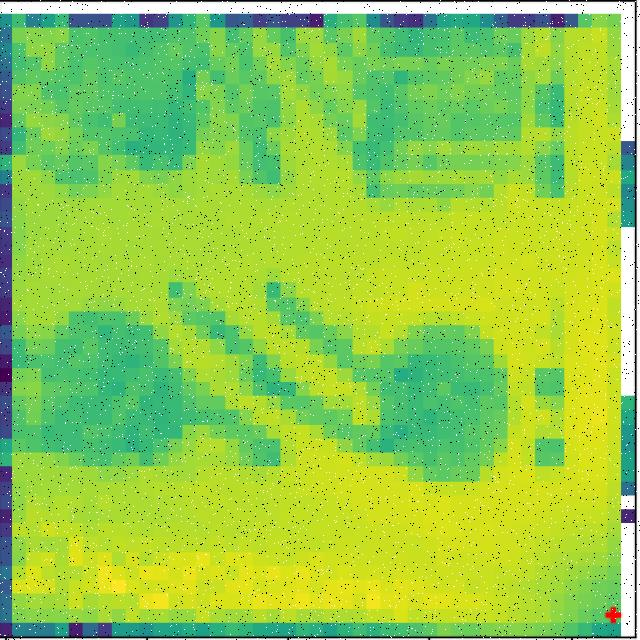Concrete: (365, 301, 508, 485)
Glass: (46, 286, 200, 508)
Metal: (335, 36, 522, 206)
Wood: (46, 35, 220, 210)
